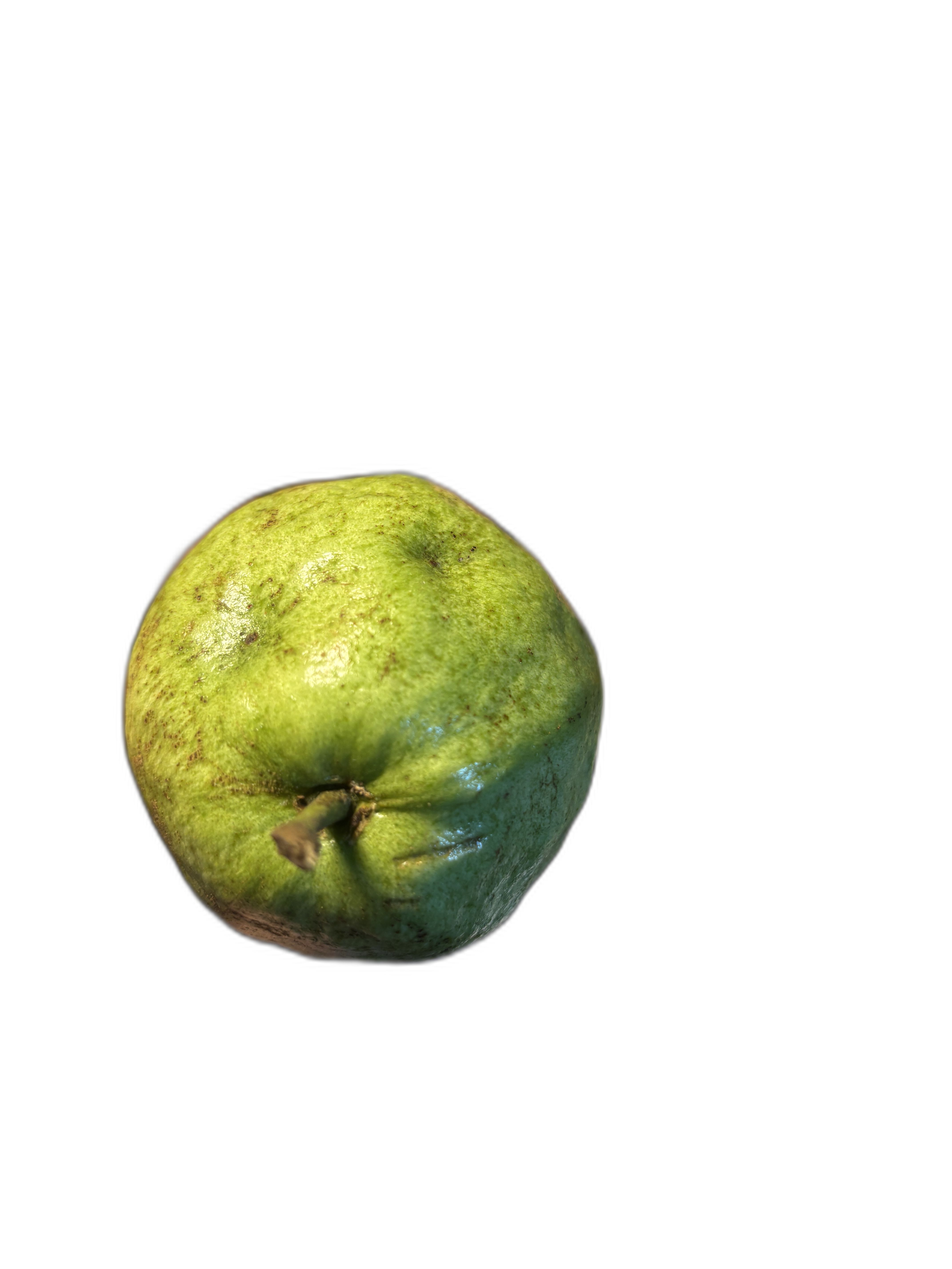guava: (0, 173, 833, 1267)
